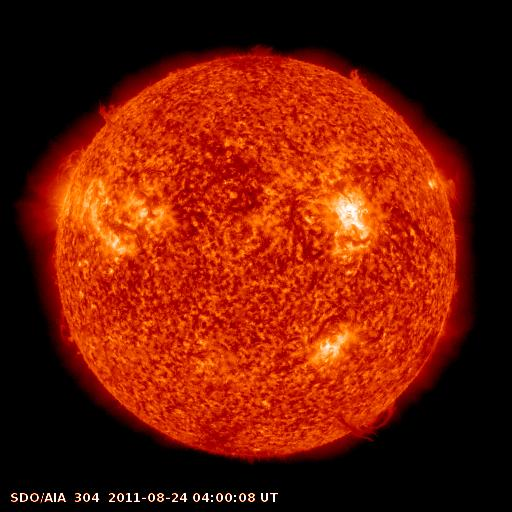prominence: (330, 393, 404, 447), (48, 303, 79, 350), (94, 95, 131, 128), (347, 60, 375, 96), (439, 173, 465, 207)
